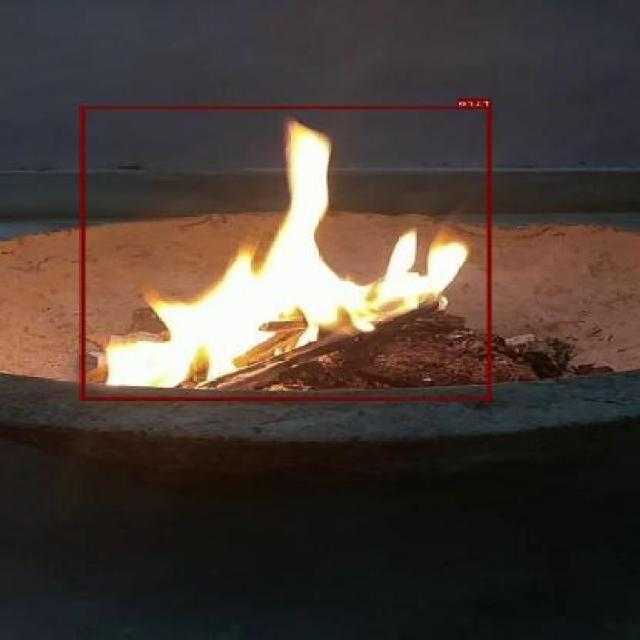Fire: (81, 106, 492, 400)
